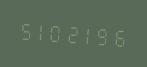five: (17, 16, 32, 44)
nine: (97, 21, 112, 49)
one: (33, 17, 48, 45), (81, 20, 96, 48)
six: (113, 22, 128, 50)
two: (65, 19, 80, 47)
zero: (49, 18, 64, 46)
